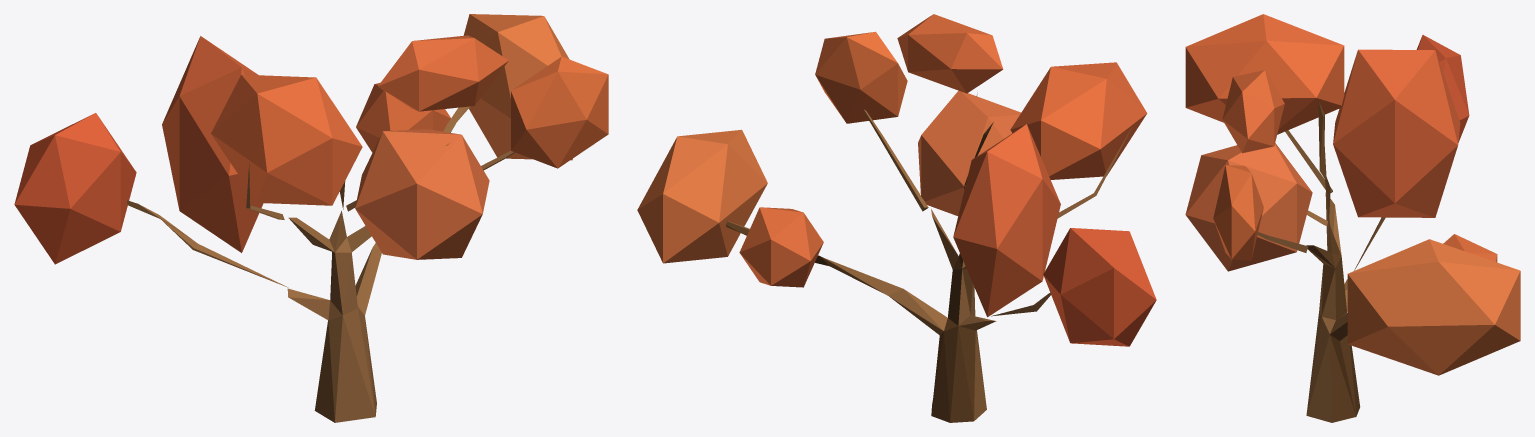
File: magnolia_autumn_far.glb
3 renders of one model, left to right at view 1: azimuth 30°, elevation 25°; view 2: azimuth 150°, elevation 25°; view 3: azimuth 270°, elevation 25°, orthographic. The views are drawn at different scales.
Parts seen in each view (by area): view 1: magnolia_autumn_far; view 2: magnolia_autumn_far; view 3: magnolia_autumn_far.
Boxes of the visible parts, x1,y1,x2,y2 form: magnolia_autumn_far: (14,14,608,422); magnolia_autumn_far: (637,14,1156,422); magnolia_autumn_far: (1185,14,1520,422).
Size of the model in its own units: 9.83 by 6.64 by 5.73.
